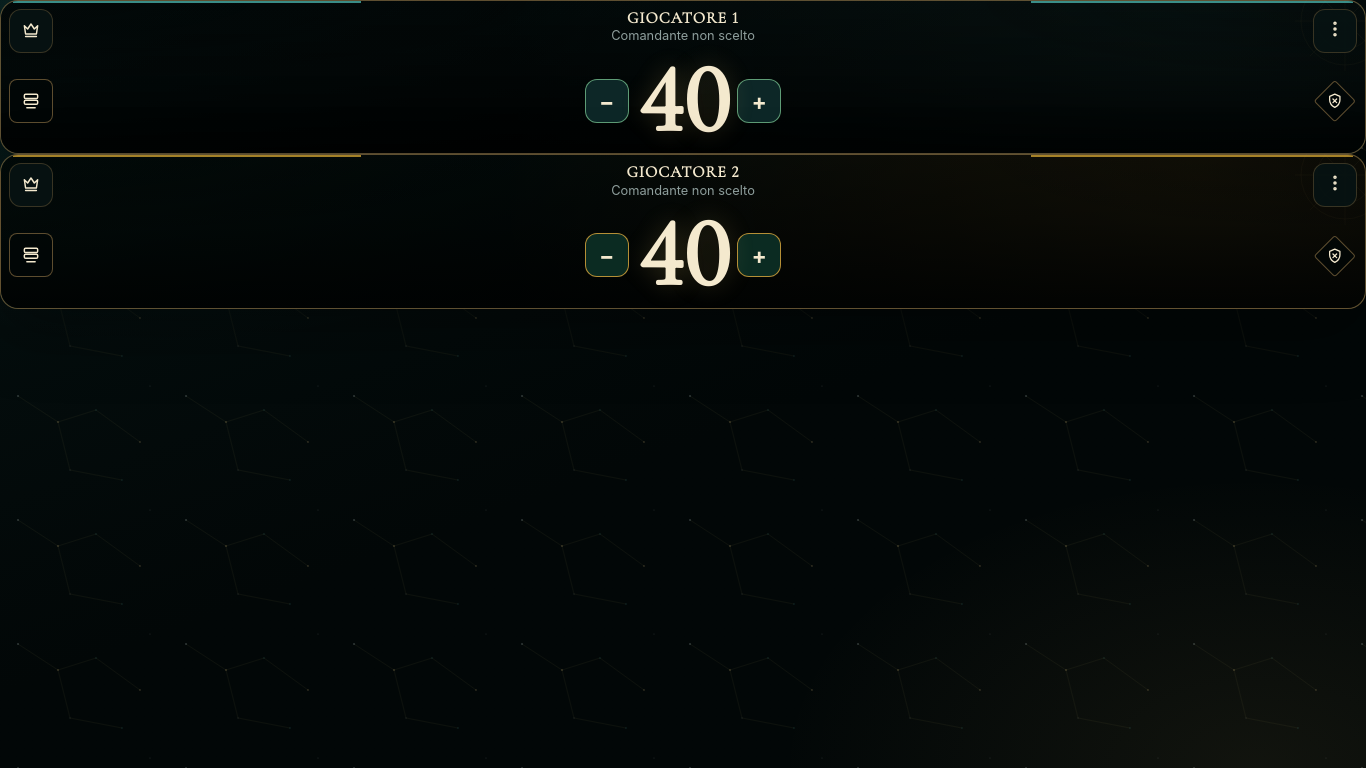
Scenario: closed player card (R2 §3, compact) › passes the Monarch with the crown and shows who holds it
Click the button named "Prendi Monarca" in the row of "Giocatore 1".
click(31, 31)  # box [9,9,53,53]
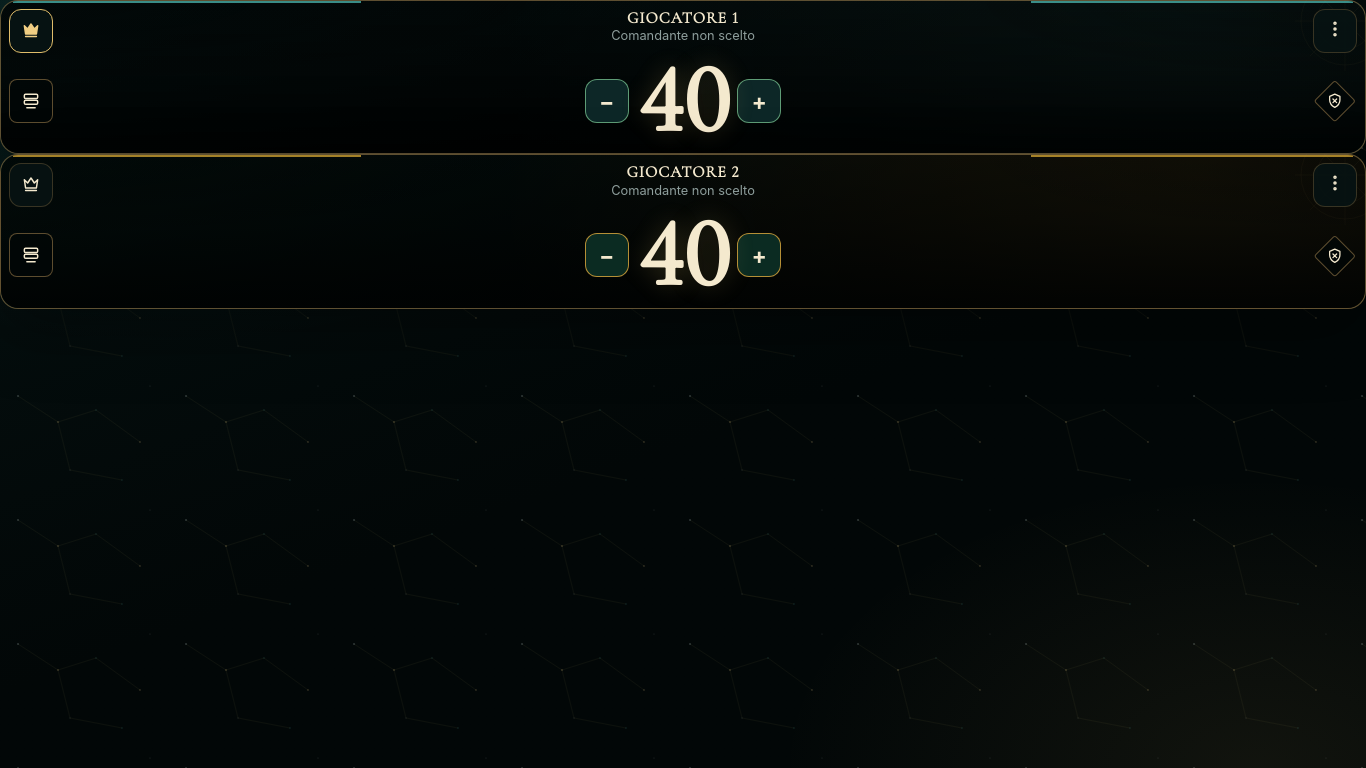
Check: the button named "Rilascia Monarca" is pressed, box [9,9,53,53]
Click the button named "Prendi Monarca".
click(31, 185)  # box [9,163,53,207]
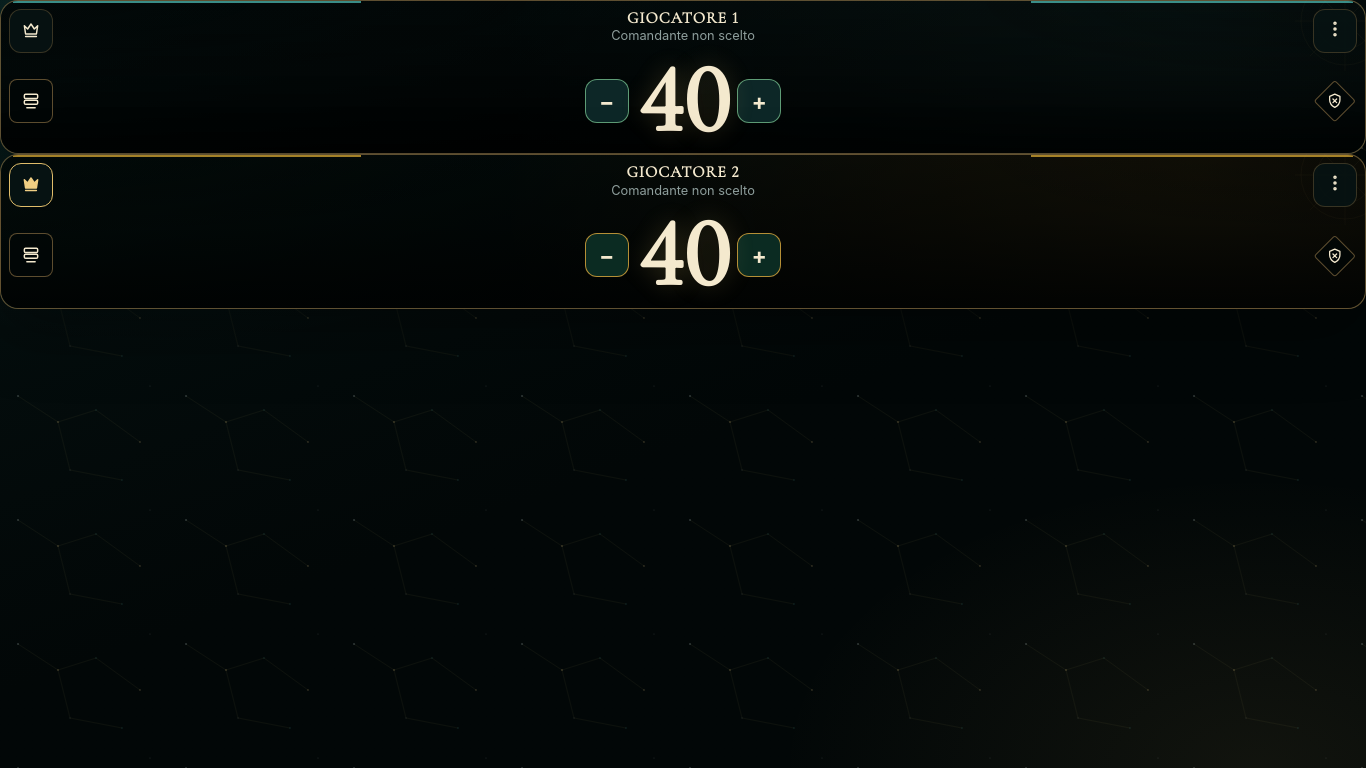
Check: the button named "Prendi Monarca" is not pressed, box [9,9,53,53]
Click the button named "Rilascia Monarca".
click(31, 185)  # box [9,163,53,207]
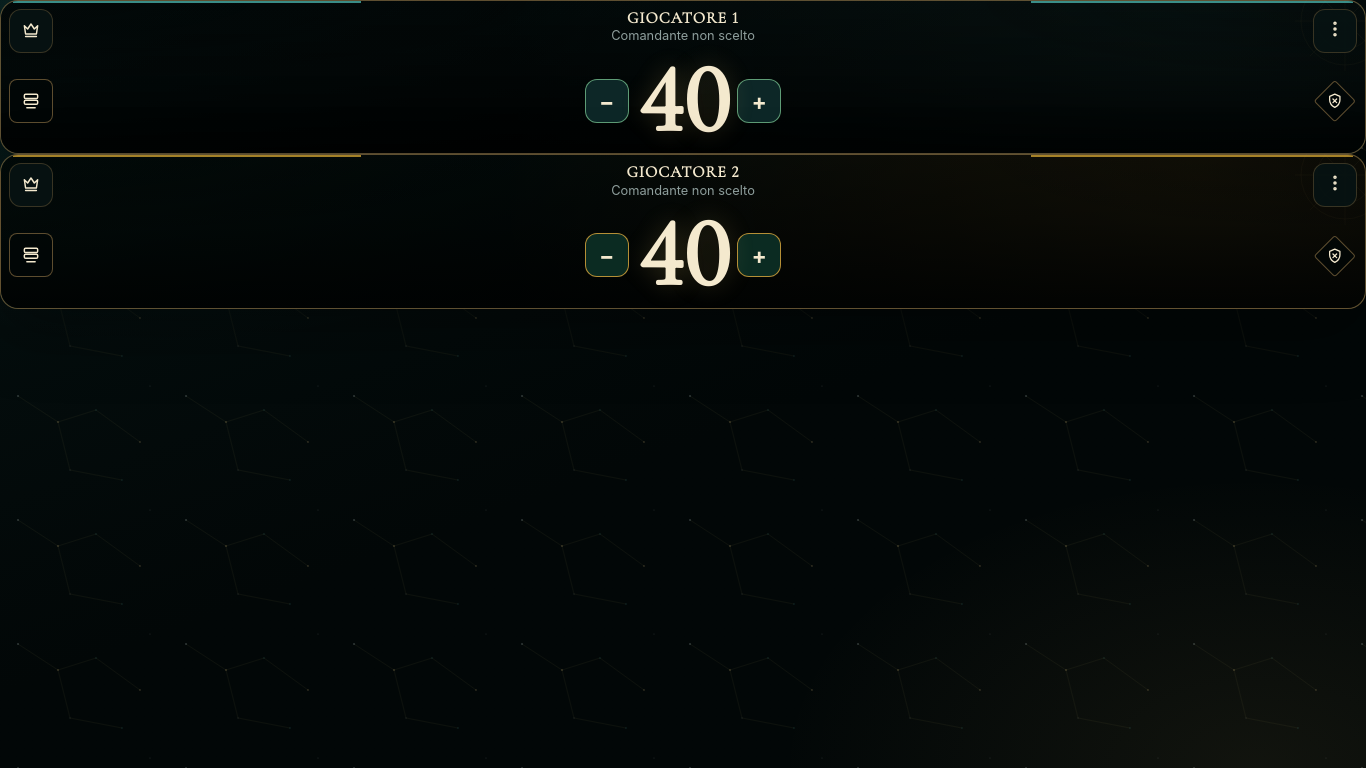
Check: the button named "Prendi Monarca" in the row of "Giocatore 2" is shown, box [9,163,53,207]
